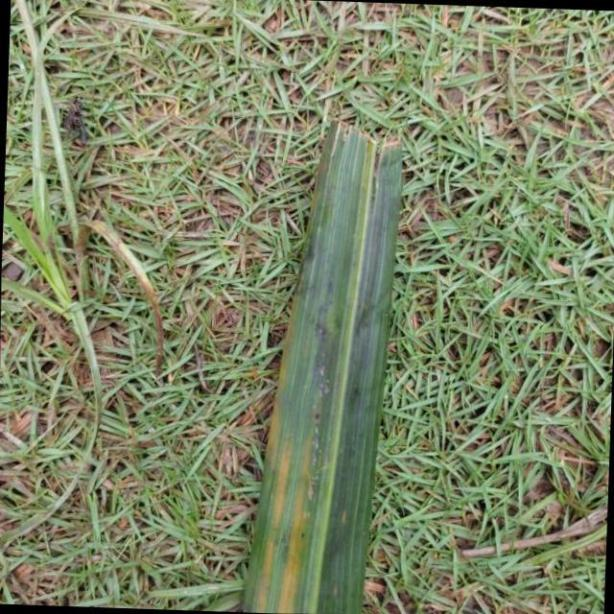Megnesium: (240, 118, 404, 606)
